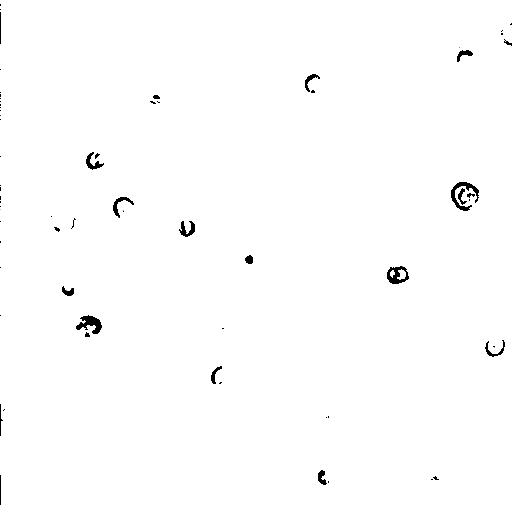micro-algae: (61, 317, 98, 345), (449, 181, 481, 213), (45, 205, 75, 239), (235, 242, 263, 272), (113, 195, 138, 222), (422, 465, 449, 490), (453, 45, 477, 71), (385, 263, 411, 286), (483, 335, 508, 357), (176, 214, 198, 238), (77, 314, 103, 334), (211, 362, 232, 383), (1, 404, 22, 425), (85, 150, 107, 170), (303, 73, 322, 94), (316, 468, 332, 487), (501, 21, 511, 46), (60, 281, 75, 297), (214, 0, 232, 6)
